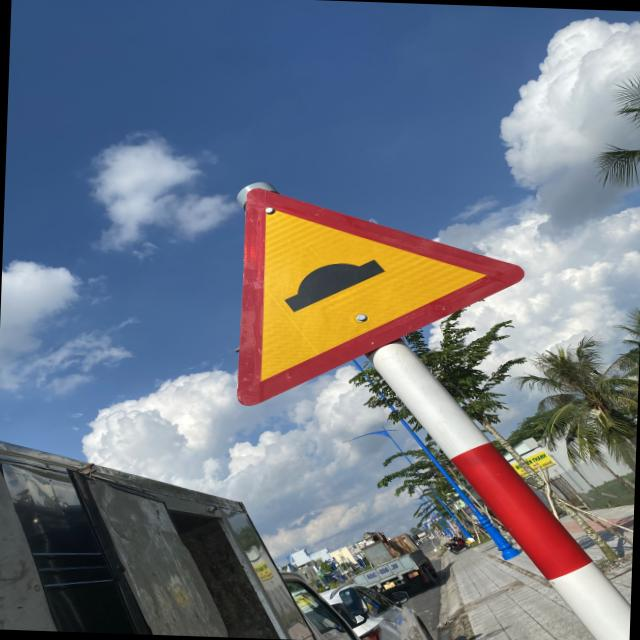Duong_Cong_Ben_Phai: (236, 190, 528, 414)
